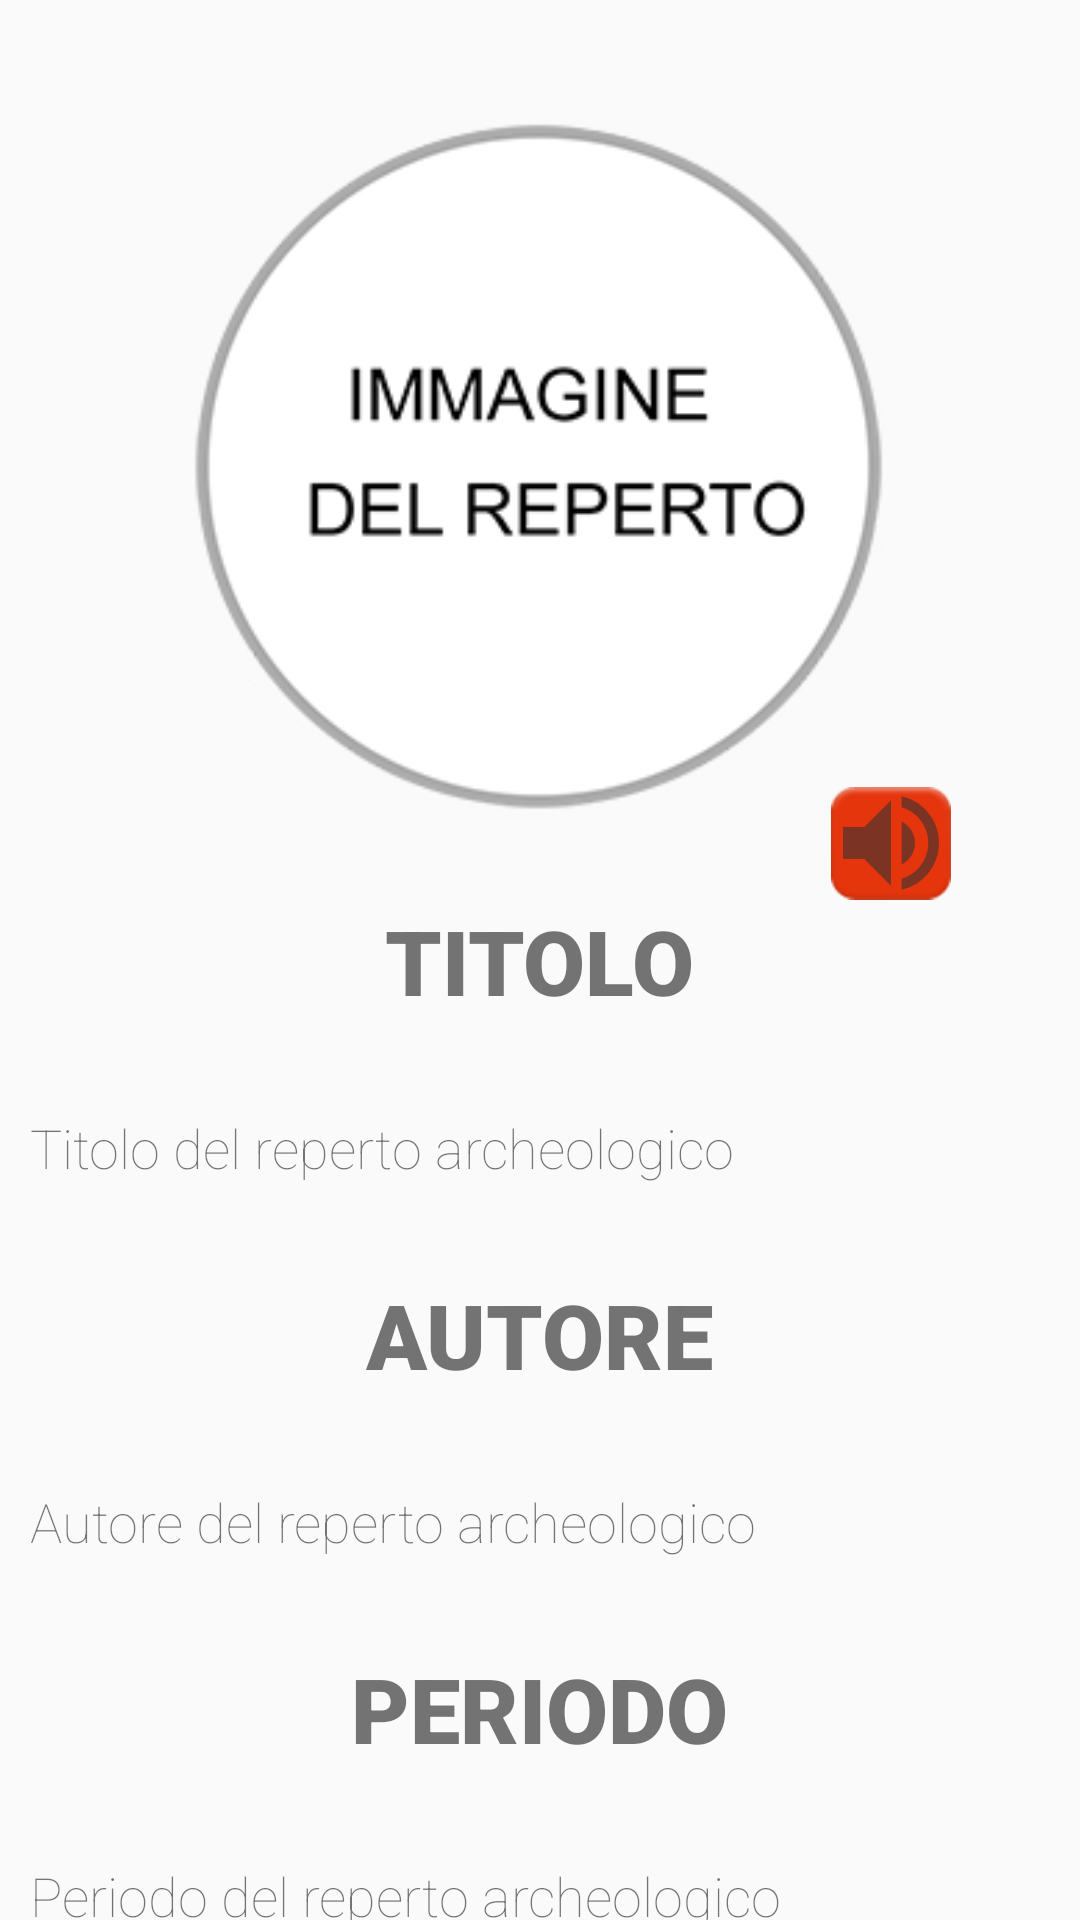

Named icons in this screenshot (1080x1920) and their centers, [x,y]:
audio: [891,843]
